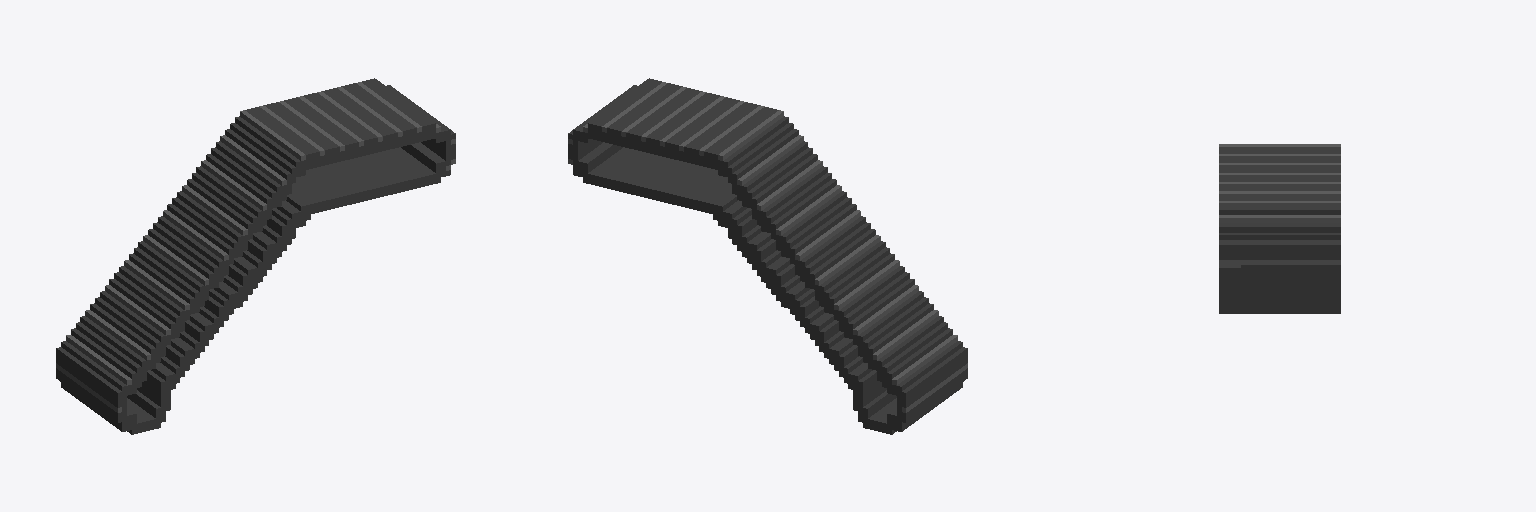
3 views of the same model, side by side, from view 1: azimuth 30°, elevation 25°; view 2: azimuth 150°, elevation 25°; view 3: azimuth 270°, elevation 25° (orthographic).
Visible parts, largest first — view 1: object 1; view 2: object 1; view 3: object 1.
Boxes of the visible parts, x1,y1,x2,y2 form: object 1: [56, 78, 455, 434]; object 1: [568, 78, 967, 434]; object 1: [1219, 144, 1340, 313].
Size of the model in its own units: 7 by 4.7 by 2.2.
Materials: 1 (1 with a texture image).